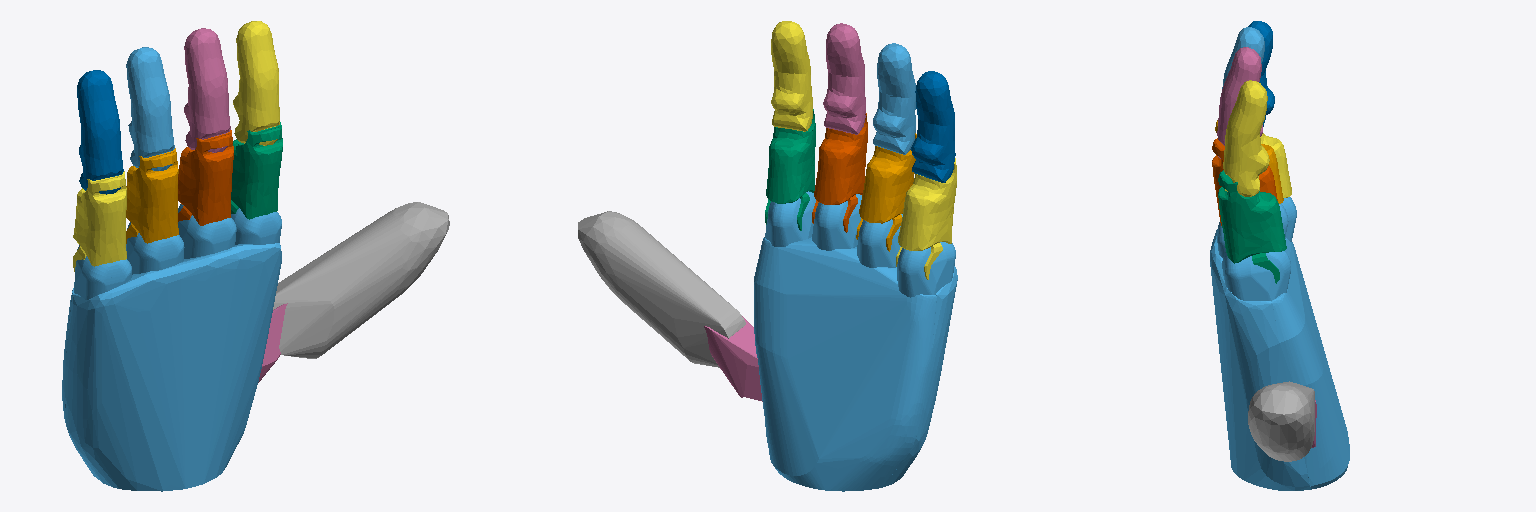
URDF robot description (ability_hand):
<!--
	NOTES:
	Units:
		Distance: m
		Angles: rad (only option)
		Mass: kg
		Inertia: kg*m^2
		
	Notes on intertia:
		-The inertias are calculated for uniform density with weights that may or may not be accurate.
		At the time of this writing only the thumb flexor weight is correct. The palm is a 'best guess' 
		approximation and the fingers are likely off by an order of magnitude
	
	Notes on finger q2:
		-The hand is a 4 bar linkage mechanism forming an 'X'. 4 bar linkages are not supported in the 
		urdf format. The motion of the second finger joint is fully defined by the motion of the first 
		finger joint. The calculation to find the index finger second joint angle given the first is provided
		in a matlab script elsewhere in this repository.
-->
<robot name="ability_hand">


	<link name="base">
		<visual name="wrist_mesh">
			<origin rpy = "0 0 0" xyz = "0 0 0"/>
			<geometry>
				<mesh filename="meshes_use/wristmesh.obj"/>
			</geometry>
		</visual>	
		<collision>  													<!-- wrist_mesh -->
		<origin
			xyz="0 0 0"
			rpy="0 0 0" />
		<geometry>
			<mesh
			filename="meshes_use/wristmesh_C.obj" />
		</geometry>
		</collision>
		<collision> 
		<origin
			xyz="0.013 -0.002 0.01"
			rpy="0 0 -0.07" />
		<geometry>
			<box size="0.01 0.01 0.008"/>
		</geometry>
		</collision>
		<collision> 
		<origin
			xyz="-0.013 0 0.01"
			rpy="0 0 -0.07" />
		<geometry>
			<box size="0.01 0.01 0.008"/>
		</geometry>
		</collision>	
		<inertial>	<!-- the mass and inertia here are NOT correct -->
			<mass value = "0.200"/>
			<inertia ixx="978.26e-6" ixy = "87.34e-6" ixz = "322.99e-6" iyy = "1244.78e-6" iyz = "244.74e-6" izz = "456.22e-6" />
			<origin xyz = "22.41911e-3 -0.15798201e-3 -0.01319866e-3" rpy = "0 0 0"/>
		</inertial>
	</link>

	<joint name="wrist2thumb" type="fixed">
		<parent link="base"/>
		<child link="thumb_base"/>
		<origin xyz = "24.0476665e-3 3.78124745e-3 32.32964923e-3" rpy = "3.14148426 0.08848813 3.14036612"/>
	</joint>








	<link name="thumb_base" >
		<inertial>
			<mass value = "0.400"/>
			<inertia ixx="978.26e-6" ixy = "87.34e-6" ixz = "322.99e-6" iyy = "1244.78e-6" iyz = "244.74e-6" izz = "456.22e-6" />
			<origin xyz = "22.41911e-3 -0.15798201e-3 -0.01319866e-3" rpy = "0 0 0"/>
		</inertial>
						
		<visual name="palm_mesh">
			<origin rpy = "0 0 0" xyz = "0 0 0"/>
			<geometry>
				<mesh filename="meshes_use/FB_palm_ref.obj"/>
			</geometry>
		</visual>
		<collision>																  <!-- thumb_base -->
		<origin
			xyz="0 0 0"
			rpy="0 0 0" />
		<geometry>
			<mesh
			filename="meshes_use/FB_palm_ref_C.obj" />
		</geometry>
		</collision>		
	</link>
	
	





	
	<link name="index_L1" >
		<inertial>
			<mass value = "0.00635888"/>
			<inertia ixx="0.29766e-6" ixy = "-0.06447133e-6" ixz = "-0.00423315e-6" iyy = "3.6947967e-6" iyz = "0.00083028e-6" izz = "3.8176336e-6" />
			<origin xyz = "22.41911e-3 -0.15798201e-3 -0.01319866e-3" rpy = "0 0 0"/>
		</inertial>
		<visual name="index_mesh_1">
			<origin xyz = "38.472723e-3 3.257695e-3 0.000000" rpy = "0 0 0.084474"/>
			<geometry>
				<mesh filename="meshes_use/idx-F1.obj"/>
			</geometry>
		</visual>
		<collision> 													   			<!-- index_L1 -->
		<origin
			xyz="0.036 -0.00175 0"
			rpy="0 0 0" />
		<geometry>
        	<sphere radius="0.0085"/>
        </geometry>
		</collision>
		<collision> 
		<origin
			xyz="0.019 0.0004 0"
			rpy="0 0 0.0845" />
		<geometry>
			<box size="0.028 0.024 0.016"/>
		</geometry>
		</collision>
		<collision> 
		<origin
			xyz="-0.001 0 0.007"
			rpy="0 0 0.0845" />
		<geometry>
			<box size="0.012 0.012 0.002"/>
		</geometry>
		</collision>
		<collision> 
		<origin
			xyz="-0.001 0 -0.007"
			rpy="0 0 0.0845" />
		<geometry>
			<box size="0.012 0.012 0.002"/>
		</geometry>
		</collision>
	</link>



	<link name="index_L2" >
		<inertial>
			<mass value = "0.00645"/>
			<inertia ixx="0.82671e-6" ixy = "-1.08876e-6" ixz = "-0.00037e-6" iyy = "1.98028e-6" iyz = "0.00081e-6" izz = "2.64638e-6" />
			<origin rpy = "0 0 0" xyz = "13.36818e-3 -8.75392e-3 -0.02886e-3"/>
		</inertial>		
		<visual name="index_mesh_2">
			<origin rpy = "0 0 0" xyz = "9.1241e-3 0 0"/>
			<geometry>
				<mesh filename="meshes_use/idx-F2.obj"/>
			</geometry>
		</visual>
		<collision>  													<!-- index_L2 -->
		<origin
			xyz="0 0 0"
			rpy="0 0 0" />
		<geometry>
			<mesh
			filename="meshes_use/idx-F2_C.obj" />
		</geometry>
		</collision>
		<collision> 
		<origin
			xyz="0.03 -0.016 0"
			rpy="0 0 0" />
		<geometry>
			<sphere radius="0.007"/>
		</geometry>
		</collision>
	</link>	
	<joint name="index_q1" type="revolute">
		<parent link="thumb_base"/>
		<child link="index_L1"/>
		<origin xyz = "-9.49e-3 -13.04e-3 -62.95e-3" rpy = "-1.982050 1.284473 -2.090591" />
		<axis xyz="0 0 1"/>
		<limit lower = "0" upper = "2.0943951" effort = "6.0" velocity = "8.0677777442"/>		<!-- angles in rad, efforts in N-m, velocity in rad/s -->
		<dynamics damping = "0.001" friction = "0.001" />	<!-- Friction coefficient is not from quantitative measurement -->
	</joint>
	<joint name="index_q2" type="revolute">
		<parent link="index_L1"/>
		<child link="index_L2"/>
		<origin xyz = "38.472723e-3 3.257695e-3 0.000000e-3" rpy = "0 0 0.084474"/>
		<axis xyz="0 0 1"/>
		<limit lower = "0.0" upper = "2.6586" effort = "6.0" velocity = "8.0677777442"/>		<!-- angles in rad, efforts in N-m, velocity in rad/s -->
		<dynamics damping = "0.001" friction = "0.001" />	<!-- Friction coefficient is not from quantitative measurement -->
		<mimic joint = "index_q1" multiplier =  "1.05851325" offset = "0.72349796"/>
	</joint>
	<link name="index_anchor"/>
	<joint name="idx_anchor" type="fixed">
		<parent link = "index_L2"/>
		<child link = "index_anchor"/>
		<origin rpy = "0 0 0" xyz = "31.5541e-3  -10.44e-3 0.14e-3"/>
	</joint>







	<link name="middle_L1" >
		<inertial>
			<mass value = "0.00635888"/>
			<inertia ixx="0.29766e-6" ixy = "-0.06447133e-6" ixz = "-0.00423315e-6" iyy = "3.6947967e-6" iyz = "0.00083028e-6" izz = "3.8176336e-6" />
			<origin xyz = "22.41911e-3 -0.15798201e-3 -0.01319866e-3" rpy = "0 0 0"/>
		</inertial>
		
		<visual name="middle_mesh_1">
			<origin xyz = "38.472723e-3 3.257695e-3 0.000000" rpy = "0 0 0.084474"/>
			<geometry>
				<mesh filename="meshes_use/idx-F1.obj"/>
			</geometry>
		</visual>
		<collision> 													   			<!-- middle_L1 -->
		<origin
			xyz="0.036 -0.00175 0"
			rpy="0 0 0" />
		<geometry>
        	<sphere radius="0.0085"/>
        </geometry>
		</collision>
		<collision> 
		<origin
			xyz="0.019 0.0004 0"
			rpy="0 0 0.0845" />
		<geometry>
			<box size="0.028 0.024 0.016"/>
		</geometry>
		</collision>
		<collision> 
		<origin
			xyz="-0.001 0 0.007"
			rpy="0 0 0.0845" />
		<geometry>
			<box size="0.012 0.012 0.002"/>
		</geometry>
		</collision>
		<collision> 
		<origin
			xyz="-0.001 0 -0.007"
			rpy="0 0 0.0845" />
		<geometry>
			<box size="0.012 0.012 0.002"/>
		</geometry>
		</collision>
	</link>



	<link name="middle_L2" >
		<inertial>
			<mass value = "0.00645"/>
			<inertia ixx="0.82671e-6" ixy = "-1.08876e-6" ixz = "-0.00037e-6" iyy = "1.98028e-6" iyz = "0.00081e-6" izz = "2.64638e-6" />
			<origin rpy = "0 0 0" xyz = "13.36818e-3 -8.75392e-3 -0.02886e-3"/>
		</inertial>
		<visual name="middle_mesh_2">
			<origin rpy = "0 0 0" xyz = "9.1241e-3 0 0"/>
			<geometry>
				<mesh filename="meshes_use/idx-F2.obj"/>
			</geometry>
		</visual>
		<collision>  													<!-- middle_L2 -->
		<origin
			xyz="0 0 0"
			rpy="0 0 0" />
		<geometry>
			<mesh
			filename="meshes_use/idx-F2_C.obj" />
		</geometry>
		</collision>
		<collision> 
		<origin
			xyz="0.03 -0.016 0"
			rpy="0 0 0" />
		<geometry>
			<sphere radius="0.007"/>
		</geometry>
		</collision>
	</link>
	<joint name="middle_q1" type="revolute">
		<parent link="thumb_base"/>
		<child link="middle_L1"/>
		<origin xyz = "9.653191e-3 -15.310271e-3 -67.853949e-3" rpy = "-1.860531 1.308458 -1.896217" />
		<limit lower = "0" upper = "2.0943951" effort = "6.0" velocity = "8.0677777442"/>		<!-- angles in rad, efforts in N-m, velocity in rad/s -->
		<dynamics damping = "0.001" friction = "0.001" />	<!-- Friction coefficient is not from quantitative measurement -->
		<axis xyz="0 0 1"/>
	</joint>
	<joint name="middle_q2" type="revolute">
		<parent link="middle_L1"/>
		<child link="middle_L2"/>
		<origin xyz = "38.472723e-3 3.257695e-3 0.000000" rpy = "0 0 0.084474"/>
		<axis xyz="0 0 1"/>
		<limit lower = "0.0" upper = "2.6586" effort = "6.0" velocity = "8.0677777442"/>		<!-- angles in rad, efforts in N-m, velocity in rad/s -->
		<dynamics damping = "0.001" friction = "0.001" />	<!-- Friction coefficient is not from quantitative measurement -->
		<mimic joint = "middle_q1" multiplier =  "1.05851325" offset = "0.72349796"/>
	</joint>
	<link name="middle_anchor"/>
	<joint name="mid_anchor" type="fixed">
		<parent link = "middle_L2"/>
		<child link = "middle_anchor"/>
		<origin rpy = "0 0 0" xyz = "31.5541e-3  -10.44e-3 0.14e-3"/>
	</joint>





	<link name="ring_L1" >
		<inertial>
			<mass value = "0.00635888"/>
			<inertia ixx="0.29766e-6" ixy = "-0.06447133e-6" ixz = "-0.00423315e-6" iyy = "3.6947967e-6" iyz = "0.00083028e-6" izz = "3.8176336e-6" />
			<origin xyz = "22.41911e-3 -0.15798201e-3 -0.01319866e-3" rpy = "0 0 0"/>
		</inertial>
		
		<visual name="ring_mesh_1">
			<origin xyz = "38.472723e-3 3.257695e-3 0.000000" rpy = "0 0 0.084474"/>
			<geometry>
				<mesh filename="meshes_use/idx-F1.obj"/>
			</geometry>
		</visual>
		<collision> 													   			<!-- ring_L1 -->
		<origin
			xyz="0.036 -0.00175 0"
			rpy="0 0 0" />
		<geometry>
        	<sphere radius="0.0085"/>
        </geometry>
		</collision>
		<collision> 
		<origin
			xyz="0.019 0.0009 0"
			rpy="0 0 0.0845" />
		<geometry>
			<box size="0.028 0.024 0.016"/>
		</geometry>
		</collision>
		<collision> 
		<origin
			xyz="-0.001 0 0.007"
			rpy="0 0 0.0845" />
		<geometry>
			<box size="0.012 0.012 0.002"/>
		</geometry>
		</collision>
		<collision> 
		<origin
			xyz="-0.001 0 -0.007"
			rpy="0 0 0.0845" />
		<geometry>
			<box size="0.012 0.012 0.002"/>
		</geometry>
		</collision>
	</link>


	<link name="ring_L2" >
		<inertial>
			<mass value = "0.00645"/>
			<inertia ixx="0.82671e-6" ixy = "-1.08876e-6" ixz = "-0.00037e-6" iyy = "1.98028e-6" iyz = "0.00081e-6" izz = "2.64638e-6" />
			<origin rpy = "0 0 0" xyz = "13.36818e-3 -8.75392e-3 -0.02886e-3"/>
		</inertial>
		<visual name="ring_mesh_2">
			<origin rpy = "0 0 0" xyz = "9.1241e-3 0 0"/>
			<geometry>
				<mesh filename="meshes_use/idx-F2.obj"/>
			</geometry>
		</visual>
		<collision>  													<!-- ring_L2 -->
		<origin
			xyz="0 0 0"
			rpy="0 0 0" />
		<geometry>
			<mesh
			filename="meshes_use/idx-F2_C.obj" />
		</geometry>
		</collision>
		<collision> 
		<origin
			xyz="0.03 -0.016 0"
			rpy="0 0 0" />
		<geometry>
			<sphere radius="0.007"/>
		</geometry>
		</collision>		
	</link>
	<joint name="ring_q1" type="revolute">
		<parent link="thumb_base"/>
		<child link="ring_L1"/>
		<origin xyz = "29.954260e-3 -14.212492e-3 -67.286105e-3" rpy = "-1.716598 1.321452 -1.675862" />
		<limit lower = "0" upper = "2.0943951" effort = "6.0" velocity = "8.0677777442"/>		<!-- angles in rad, efforts in N-m, velocity in rad/s -->
		<dynamics damping = "0.001" friction = "0.001" />	<!-- Friction coefficient is not from quantitative measurement -->
		<axis xyz="0 0 1"/>
	</joint>
	<joint name="ring_q2" type="revolute">
		<parent link="ring_L1"/>
		<child link="ring_L2"/>
		<origin xyz = "38.472723e-3 3.257695e-3 0.000000" rpy = "0 0 0.084474"/>
		<axis xyz="0 0 1"/>
		<limit lower = "0.0" upper = "2.6586" effort = "6.0" velocity = "8.0677777442"/>		<!-- angles in rad, efforts in N-m, velocity in rad/s -->
		<dynamics damping = "0.001" friction = "0.001" />	<!-- Friction coefficient is not from quantitative measurement -->
		<mimic joint = "ring_q1" multiplier =  "1.05851325" offset = "0.72349796"/>
	</joint>
	<link name="ring_anchor"/>
	<joint name="rng_anchor" type="fixed">
		<parent link = "ring_L2"/>
		<child link = "ring_anchor"/>
		<origin rpy = "0 0 0" xyz = "31.5541e-3  -10.44e-3 0.14e-3"/>
	</joint>






	<link name="pinky_L1" >
		<inertial>
			<mass value = "0.00635888"/>
			<inertia ixx="0.29766e-6" ixy = "-0.06447133e-6" ixz = "-0.00423315e-6" iyy = "3.6947967e-6" iyz = "0.00083028e-6" izz = "3.8176336e-6" />
			<origin xyz = "22.41911e-3 -0.15798201e-3 -0.01319866e-3" rpy = "0 0 0"/>
		</inertial>
		
		<visual name="pinky_mesh_1">
			<origin xyz = "38.472723e-3 3.257695e-3 0.000000" rpy = "0 0 0.084474"/>
			<geometry>
				<mesh filename="meshes_use/idx-F1.obj"/>
			</geometry>
		</visual>
		<collision> 													   			<!-- pinky_L1 -->
		<origin
			xyz="0.036 -0.00175 0"
			rpy="0 0 0" />
		<geometry>
        	<sphere radius="0.0085"/>
        </geometry>
		</collision>
		<collision> 
		<origin
			xyz="0.019 0.0009 0"
			rpy="0 0 0.0845" />
		<geometry>
			<box size="0.028 0.024 0.016"/>
		</geometry>
		</collision>
		<collision> 
		<origin
			xyz="-0.001 0 0.007"
			rpy="0 0 0.0845" />
		<geometry>
			<box size="0.012 0.012 0.002"/>
		</geometry>
		</collision>
		<collision> 
		<origin
			xyz="-0.001 0 -0.007"
			rpy="0 0 0.0845" />
		<geometry>
			<box size="0.012 0.012 0.002"/>
		</geometry>
		</collision>
	</link>


	<link name="pinky_L2" >
		<inertial>
			<mass value = "0.00645"/>
			<inertia ixx="0.82671e-6" ixy = "-1.08876e-6" ixz = "-0.00037e-6" iyy = "1.98028e-6" iyz = "0.00081e-6" izz = "2.64638e-6" />
			<origin rpy = "0 0 0" xyz = "13.36818e-3 -8.75392e-3 -0.02886e-3"/>
		</inertial>
		<visual name="pinky_mesh_2">
			<origin rpy = "0 0 0" xyz = "9.1241e-3 0 0"/>
			<geometry>
				<mesh filename="meshes_use/idx-F2.obj"/>
			</geometry>
		</visual>
		<collision>  													<!-- pinky_L2 -->
		<origin
			xyz="0 0 0"
			rpy="0 0 0" />
		<geometry>
			<mesh
			filename="meshes_use/idx-F2_C.obj" />
		</geometry>
		</collision>
		<collision> 
		<origin
			xyz="0.03 -0.016 0"
			rpy="0 0 0" />
		<geometry>
			<sphere radius="0.007"/>
		</geometry>
		</collision>		
	</link>
	<joint name="pinky_q1" type="revolute">
		<parent link="thumb_base"/>
		<child link="pinky_L1"/>
		<origin xyz = "49.521293e-3 -11.004583e-3 -63.029065e-3" rpy = "-1.765110 1.322220 -1.658383" />
		<limit lower = "0" upper = "2.0943951" effort = "6.0" velocity = "8.0677777442"/>		<!-- angles in rad, efforts in N-m, velocity in rad/s -->
		<dynamics damping = "0.001" friction = "0.001" />	<!-- Friction coefficient is not from quantitative measurement -->
		<axis xyz="0 0 1"/>
	</joint>
	<joint name="pinky_q2" type="revolute">
		<parent link="pinky_L1"/>
		<child link="pinky_L2"/>
		<origin xyz = "38.472723e-3 3.257695e-3 0.000000" rpy = "0 0 0.084474"/>
		<limit lower = "0.0" upper = "2.6586" effort = "6.0" velocity = "8.0677777442"/>		<!-- angles in rad, efforts in N-m, velocity in rad/s -->
		<dynamics damping = "0.001" friction = "0.001" />	<!-- Friction coefficient is not from quantitative measurement -->
		<axis xyz="0 0 1"/>
		<mimic joint = "pinky_q1" multiplier =  "1.05851325" offset = "0.72349796"/>
	</joint>
	<link name="pinky_anchor"/>
	<joint name="pnky_anchor" type="fixed">
		<parent link = "pinky_L2"/>
		<child link = "pinky_anchor"/>
		<origin rpy = "0 0 0" xyz = "31.5541e-3  -10.44e-3 0.14e-3"/>
	</joint>









	<link name="thumb_L1" >
		<inertial>
			<mass value = "0.00268342"/>
			<inertia ixx="0.16931e-6" ixy = "-0.076214e-6" ixz = "-0.16959148e-6" iyy = "0.77769934e-6" iyz = "0.0156622e-6" izz = "0.7249122e-6" />
			<origin rpy = "0 0 0" xyz = "14.606e-3 -1.890854e-3 -3.1155356e-3"/>
		</inertial>
		
		<visual name="thumb_mesh_1">
			<origin xyz = "27.8283501e-3 0 -14.7507000e-3" rpy = "4.450589592585541 0 0" />
			<geometry>
				<mesh filename="meshes_use/thumb-F1.obj"/>
			</geometry>
		</visual>
		<collision>  													<!-- thumb_L1 -->
		<origin
			xyz="27.8283501e-3 0 -14.7507000e-3"
			rpy="4.450589592585541 0 0" />
		<geometry>
			<mesh
			filename="meshes_use/thumb-F1_C.obj" />
		</geometry>
		</collision>
	</link>


	<link name="thumb_L2" >
		<inertial>
			<mass value = "0.0055"/>
			<inertia ixx="4.4789082e-6" ixy = "4.4789082e-6" ixz = "-0.62144934e-6" iyy = "15.600996e-6" iyz = "-0.07466143e-6" izz = "17.908554e-6" />
			<origin rpy = "0 0 0" xyz = "30.020522e-3 5.59476e-3 -4.1504356e-3"/>
		</inertial>
		
		<visual name="thumb_mesh_2">
			<origin xyz = "65.18669e-3 23.34021e-3 -3.93483e-3" rpy = "3.141592 0 0.343830"/>
			<geometry>
				<mesh filename="meshes_use/thumb-F2.obj"/>
			</geometry>
		</visual>
		<collision>  													<!-- thumb_L2 -->
		<origin
			xyz="65.18669e-3 23.34021e-3 -3.93483e-3"
			rpy="3.141592 0 0.343830" />
		<geometry>
			<mesh
			filename="meshes_use/thumb-F2_C.obj" />
		</geometry>
		</collision>
	</link>

	<joint name="thumb_q1" type="revolute">
		<parent link="thumb_base"/>
		<child link="thumb_L1"/>
		<origin xyz = "0 0 0" rpy = "0 0 3.330437"/>
		<axis xyz="0 0 1"/>
		<limit lower = "-2.0943951" upper = "0" effort = "1.2" velocity = "40.338888721"/>		<!-- angles in rad, efforts in N-m, velocity in rad/s -->
		<dynamics damping = "0.001" friction = "0.001" />	<!-- Friction coefficient is not from quantitative measurement -->
	</joint>
	<joint name="thumb_q2" type="revolute">
		<parent link="thumb_L1"/>
		<child link="thumb_L2"/>
		<origin xyz = "27.8283501e-3 0 -14.7507000e-3" rpy = "4.450589592585541 0 0" />
		<axis xyz="0 0 1"/>
		<limit lower = "0" upper = "2.0943951" effort = "6.0" velocity = "8.0677777442"/>		<!-- angles in rad, efforts in N-m, velocity in rad/s -->
		<dynamics damping = "0.001" friction = "0.001" />	<!-- Friction coefficient is not from quantitative measurement -->		
	</joint>
	<link name="thumb_anchor"/>
	<joint name="thmb_anchor" type="fixed">
		<parent link = "thumb_L2"/>
		<child link = "thumb_anchor"/>
		<origin rpy = "0 0 0" xyz = "52.0012259e-3  28.0086971e-3 -.884835778e-3"/>
	</joint>
</robot>

--- Render facts (derived) ---
The picture shows the robot from 3 angles, left to right: view 1: azimuth 30°, elevation 25°; view 2: azimuth 150°, elevation 25°; view 3: azimuth 270°, elevation 25°; orthographic projection.
Robot: ability_hand — 17 links, 16 joints (10 revolute, 6 fixed); root link base; default pose: every joint at zero.
Links seen in each view (by area): view 1: thumb_base, thumb_L2, index_L2, middle_L2, ring_L2, pinky_L2, middle_L1, ring_L1, pinky_L1, index_L1, thumb_L1; view 2: thumb_base, thumb_L2, pinky_L2, index_L2, middle_L2, ring_L2, pinky_L1, middle_L1, index_L1, ring_L1, thumb_L1; view 3: thumb_base, thumb_L2, index_L1, index_L2, middle_L2, middle_L1, pinky_L2, ring_L2, pinky_L1.
Link boxes in pixels (x1=…): thumb_base: x1=62, y1=204, x2=281, y2=491; thumb_L2: x1=273, y1=202, x2=449, y2=358; index_L2: x1=233, y1=21, x2=279, y2=145; middle_L2: x1=184, y1=28, x2=230, y2=152; ring_L2: x1=126, y1=47, x2=174, y2=170; pinky_L2: x1=77, y1=70, x2=123, y2=194; middle_L1: x1=178, y1=130, x2=233, y2=225; ring_L1: x1=126, y1=148, x2=178, y2=243; pinky_L1: x1=73, y1=171, x2=126, y2=271; index_L1: x1=231, y1=122, x2=282, y2=219; thumb_L1: x1=258, y1=303, x2=287, y2=382; thumb_base: x1=754, y1=191, x2=957, y2=491; thumb_L2: x1=578, y1=211, x2=745, y2=367; pinky_L2: x1=911, y1=71, x2=955, y2=182; index_L2: x1=771, y1=21, x2=812, y2=131; middle_L2: x1=823, y1=23, x2=865, y2=134; ring_L2: x1=873, y1=43, x2=915, y2=154; pinky_L1: x1=896, y1=158, x2=956, y2=279; middle_L1: x1=812, y1=113, x2=867, y2=232; index_L1: x1=765, y1=109, x2=815, y2=230; ring_L1: x1=856, y1=133, x2=916, y2=251; thumb_L1: x1=704, y1=316, x2=762, y2=401; thumb_base: x1=1210, y1=197, x2=1349, y2=490; thumb_L2: x1=1248, y1=381, x2=1314, y2=461; index_L1: x1=1218, y1=170, x2=1286, y2=283; index_L2: x1=1223, y1=80, x2=1269, y2=196; middle_L2: x1=1217, y1=47, x2=1262, y2=158; middle_L1: x1=1212, y1=138, x2=1277, y2=225; pinky_L2: x1=1248, y1=21, x2=1274, y2=126; ring_L2: x1=1222, y1=27, x2=1264, y2=88; pinky_L1: x1=1260, y1=133, x2=1291, y2=198.
Size in the robot's own frame: 0.1565 by 0.053 by 0.1778 metres.
12 mesh visuals loaded from 6 distinct referenced files (6 OBJ).